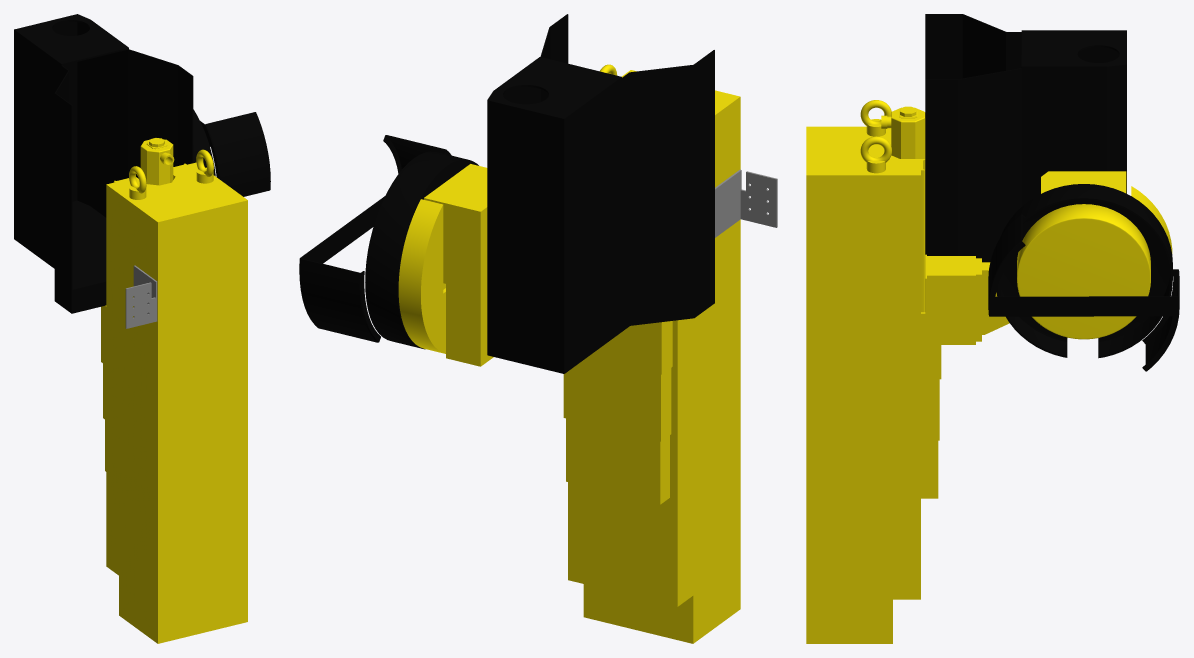
File: ACC4.fbx
3 views of the same model, side by side, from view 1: azimuth 30°, elevation 25°; view 2: azimuth 150°, elevation 25°; view 3: azimuth 270°, elevation 25° (orthographic). The views are drawn at different scales.
Parts seen in each view (by area): view 1: Rectangle015, BODY_PARTS_1, 2, 1, 170, 171; view 2: BODY_PARTS_1, Rectangle015, 5, 6, 2, 4; view 3: BODY_PARTS_1, Rectangle015, 1, 5, 6, 4, 170, 171.
Part boxes in pixels (x1,y1,x2,y2): Rectangle015: [106, 162, 247, 643]; BODY_PARTS_1: [14, 14, 270, 313]; 2: [125, 265, 157, 328]; 1: [140, 138, 174, 185]; 170: [196, 149, 213, 183]; 171: [129, 166, 146, 199]; BODY_PARTS_1: [299, 14, 714, 373]; Rectangle015: [568, 70, 740, 643]; 5: [563, 357, 671, 441]; 6: [566, 418, 669, 504]; 2: [715, 169, 777, 237]; 4: [588, 321, 672, 374]; BODY_PARTS_1: [925, 14, 1179, 371]; Rectangle015: [806, 126, 925, 643]; 1: [881, 106, 925, 159]; 5: [921, 312, 939, 440]; 6: [921, 440, 938, 498]; 4: [921, 313, 941, 379]; 170: [860, 136, 891, 173]; 171: [860, 100, 891, 136].
Bounding box in the file's own units: 1493 × 1908 × 3186.
